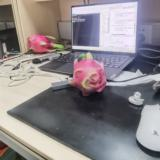pitaya: (73, 52, 106, 96)
